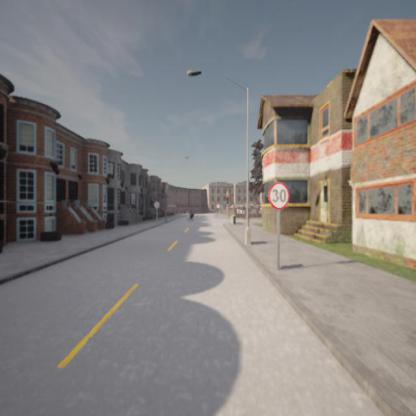traffic_sign_30: (268, 182, 290, 210)
